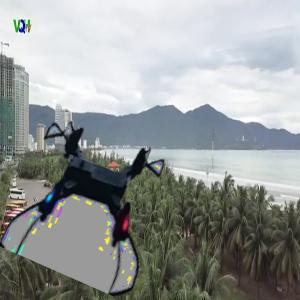drone: (13, 125, 168, 280)
